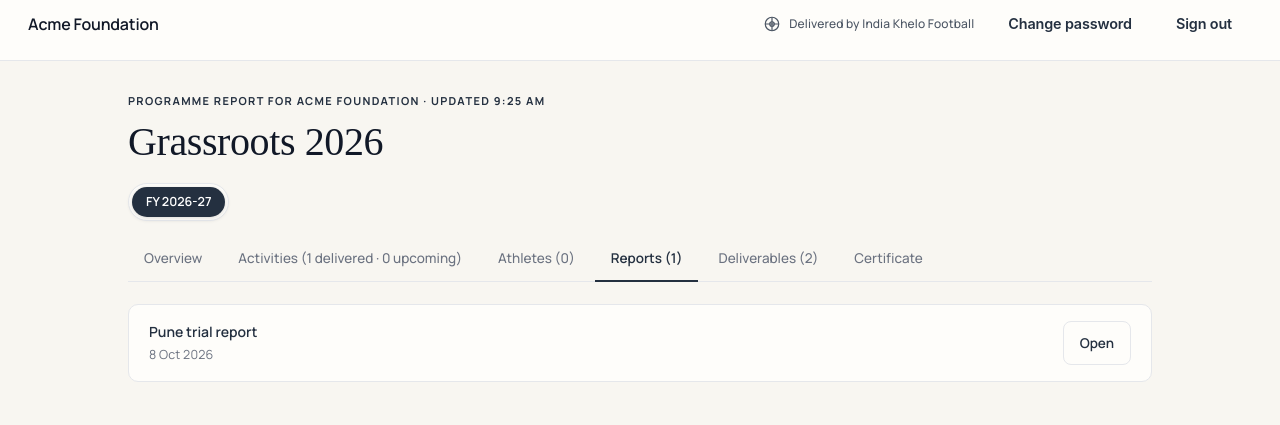
it: an uploaded report that fails to load says so on its row
Step 1. Click the button with aria-label "Open Pune trial report" → (1097, 342), box top-left (1063, 320), bottom-right (1131, 364)
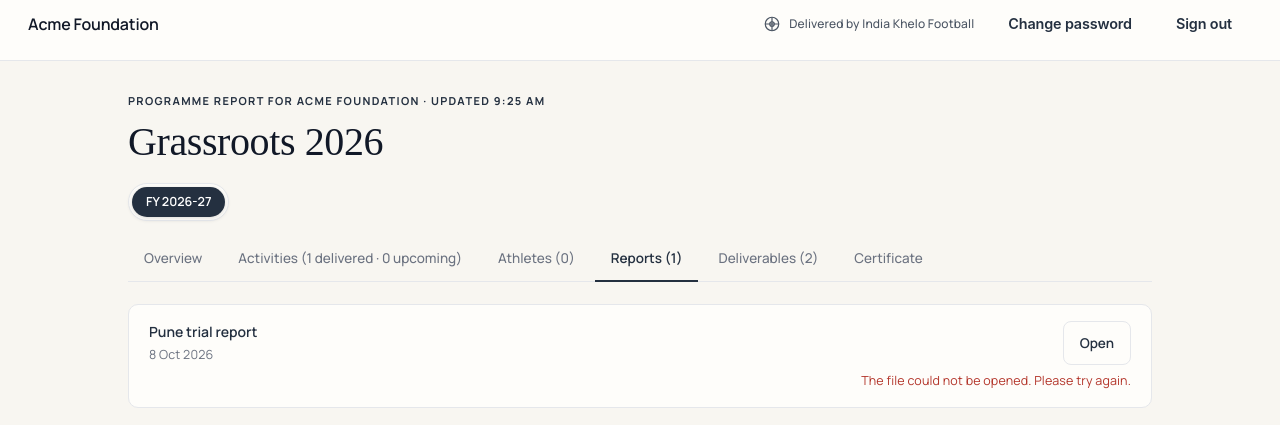
Result: the message reads "The file could not be opened. Please try again." at top-left (861, 372), bottom-right (1131, 388)
